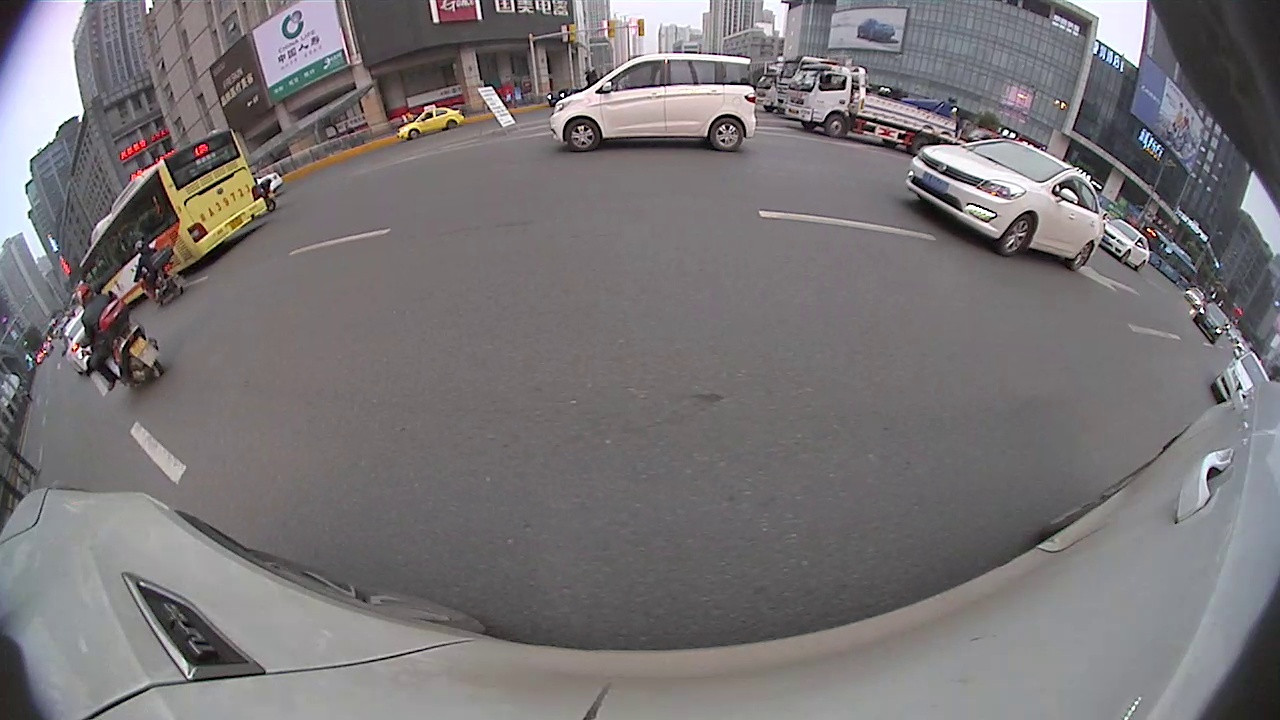bus: (70, 124, 266, 312)
car: (903, 138, 1102, 273), (548, 51, 754, 159), (59, 302, 117, 381), (1217, 351, 1273, 416), (1098, 218, 1154, 272), (399, 101, 466, 143), (1192, 298, 1233, 343)
front: (998, 209, 1035, 260), (564, 117, 601, 153), (822, 112, 847, 140)
rear: (709, 117, 746, 153), (1067, 242, 1093, 272)
rider: (67, 269, 163, 398)
truck: (777, 53, 969, 153)
